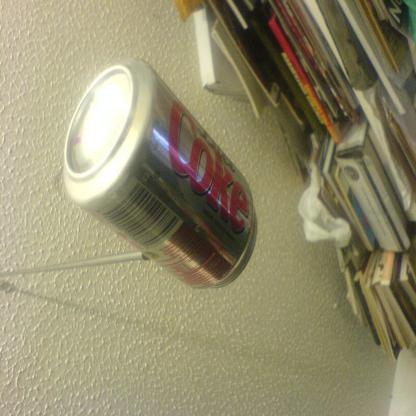book: (170, 0, 415, 364), (378, 252, 405, 353)
